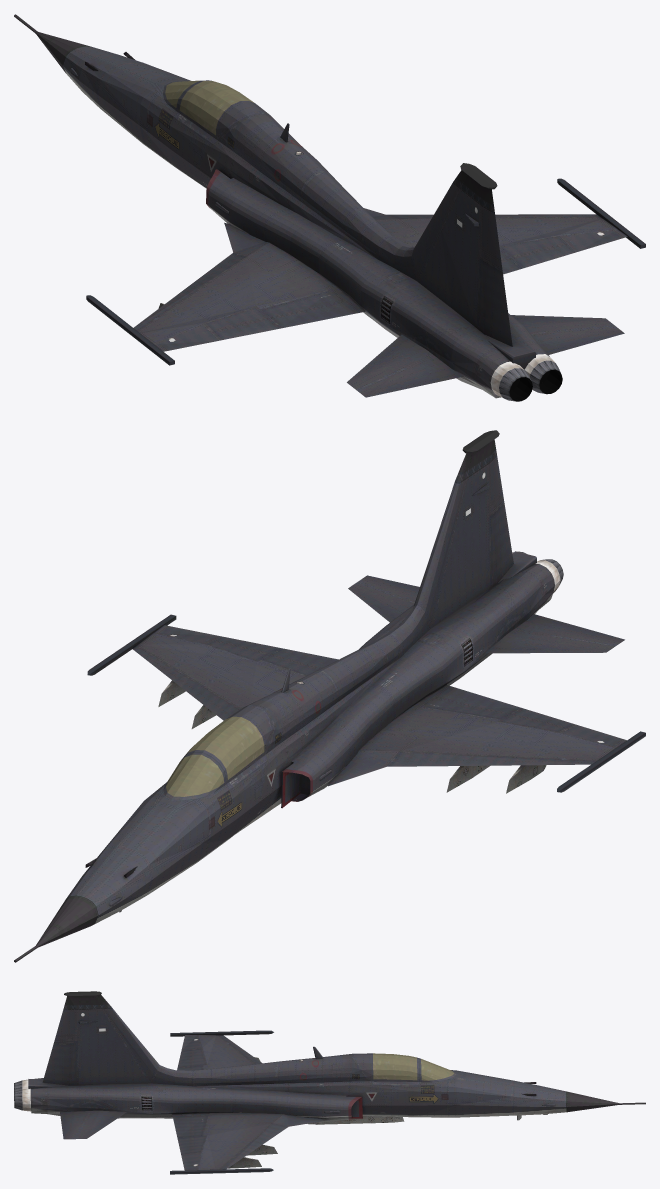
The model's file is Tiger5.obj.
3 views of the same model, one above another, from view 1: azimuth 30°, elevation 25°; view 2: azimuth 150°, elevation 25°; view 3: azimuth 270°, elevation 25° (orthographic). The views are drawn at different scales.
Parts seen in each view (by area): view 1: LOD0, ElevatorL01, ElevatorR01, FlapL01, Glass_Canopy01, RudderL01, AileronR01, AileronL01, Canopy01, VoletL01, EngineL01, EngineR01 (+1 smaller); view 2: LOD0, ElevatorL01, Glass_Canopy01, VoletL01, ElevatorR01, Glass01, FlapL01, VoletR01, Canopy01, RudderL01, FlapR01, AileronR01 (+1 smaller); view 3: LOD0, ElevatorR01, Glass_Canopy01, RudderL01, Canopy01, FlapR01, VoletR01, Glass01, AileronL01, AileronR01.
Part boxes in pixels (x1=…): LOD0: x1=14, y1=14, x2=645, y2=398; ElevatorL01: x1=347, y1=334, x2=463, y2=397; ElevatorR01: x1=511, y1=315, x2=624, y2=354; FlapL01: x1=260, y1=290, x2=360, y2=328; Glass_Canopy01: x1=179, y1=81, x2=254, y2=135; RudderL01: x1=479, y1=259, x2=511, y2=341; AileronR01: x1=499, y1=235, x2=575, y2=268; AileronL01: x1=203, y1=306, x2=279, y2=340; Canopy01: x1=175, y1=80, x2=267, y2=143; VoletL01: x1=133, y1=252, x2=245, y2=331; EngineL01: x1=499, y1=368, x2=532, y2=401; EngineR01: x1=530, y1=360, x2=562, y2=394; LOD0: x1=14, y1=430, x2=645, y2=962; ElevatorL01: x1=485, y1=614, x2=624, y2=653; Glass_Canopy01: x1=184, y1=716, x2=264, y2=779; VoletL01: x1=387, y1=751, x2=596, y2=766; ElevatorR01: x1=348, y1=575, x2=419, y2=622; Glass01: x1=166, y1=754, x2=224, y2=796; FlapL01: x1=422, y1=686, x2=522, y2=719; VoletR01: x1=132, y1=645, x2=240, y2=720; Canopy01: x1=181, y1=705, x2=271, y2=788; RudderL01: x1=492, y1=502, x2=513, y2=578; FlapR01: x1=261, y1=648, x2=338, y2=675; AileronR01: x1=205, y1=636, x2=280, y2=661; LOD0: x1=22, y1=991, x2=645, y2=1174; ElevatorR01: x1=60, y1=1110, x2=126, y2=1139; Glass_Canopy01: x1=373, y1=1053, x2=417, y2=1080; RudderL01: x1=43, y1=1041, x2=75, y2=1080; Canopy01: x1=353, y1=1053, x2=419, y2=1085; FlapR01: x1=172, y1=1115, x2=207, y2=1138; VoletR01: x1=219, y1=1123, x2=288, y2=1169; Glass01: x1=421, y1=1059, x2=454, y2=1080; AileronL01: x1=178, y1=1048, x2=206, y2=1067; AileronR01: x1=177, y1=1135, x2=206, y2=1154.
Bounding box in the file's own units: 7.8 × 3.39 × 14.81.
4 materials, 4 textured.
